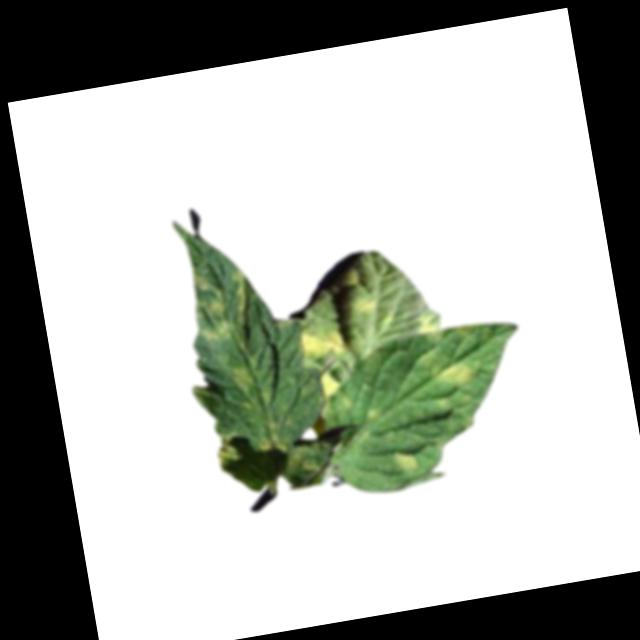Leaf_Mold: (185, 261, 257, 356), (416, 343, 480, 391), (292, 317, 351, 366), (228, 361, 258, 398), (391, 444, 423, 476), (314, 367, 346, 399), (411, 306, 443, 337), (352, 291, 378, 317)
